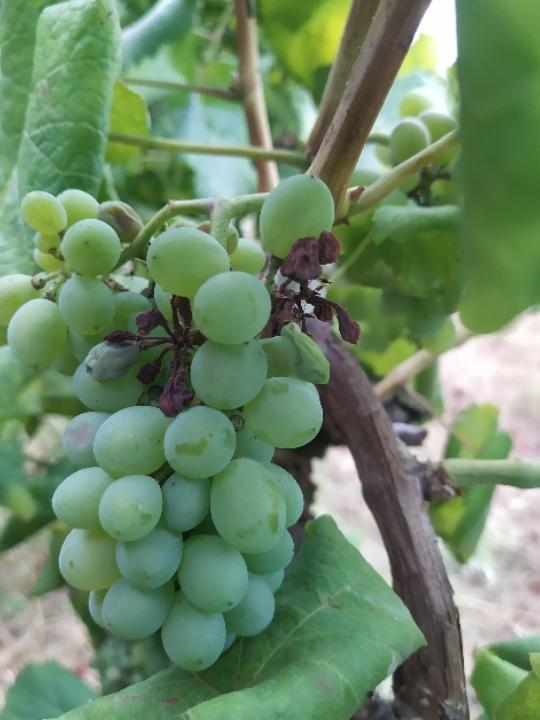grape: (0, 170, 365, 674)
